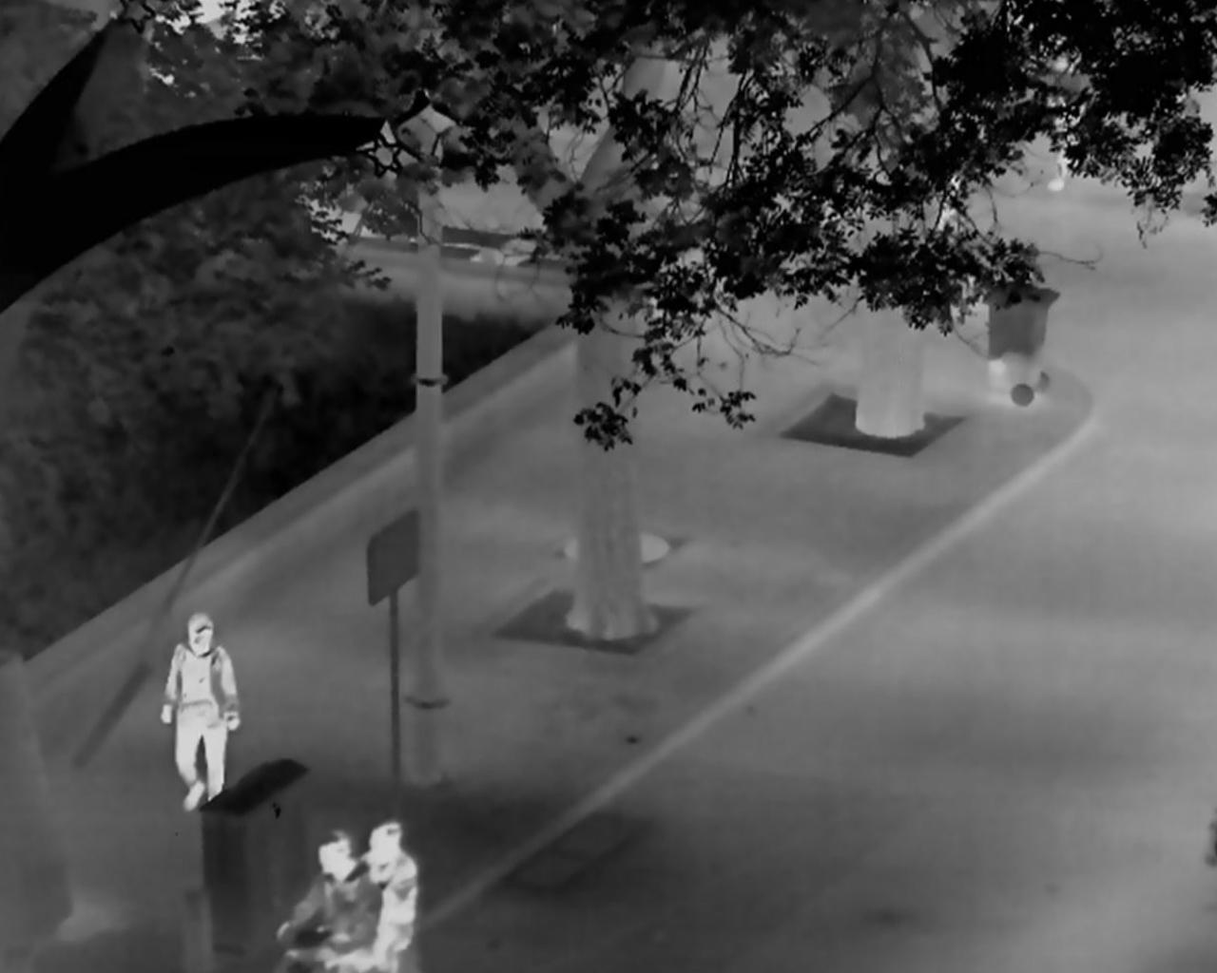person: (161, 612, 244, 812), (275, 829, 383, 973), (357, 819, 419, 973)
